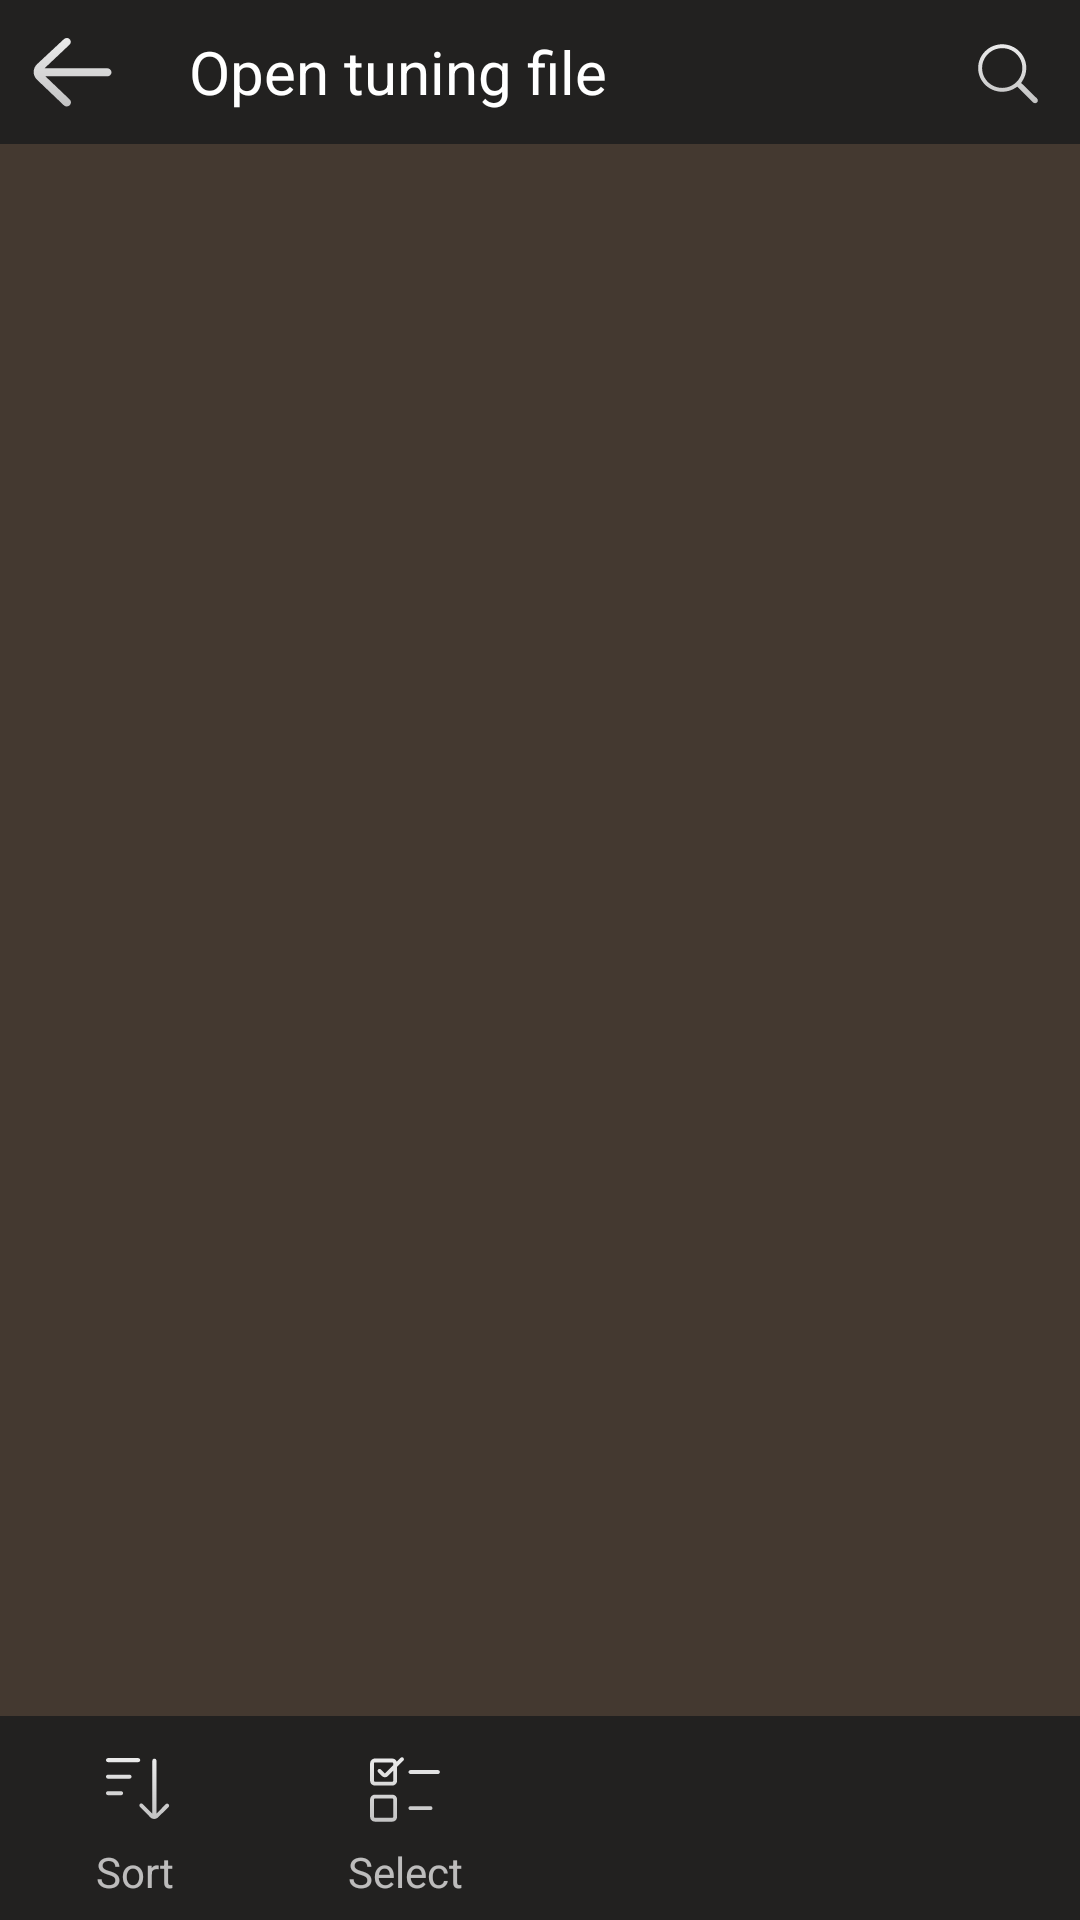

Icon click points for this 1080 × 1920 phone screenshot, format [x,y]:
back arrow: [72,72]
files search: [1008,73]
